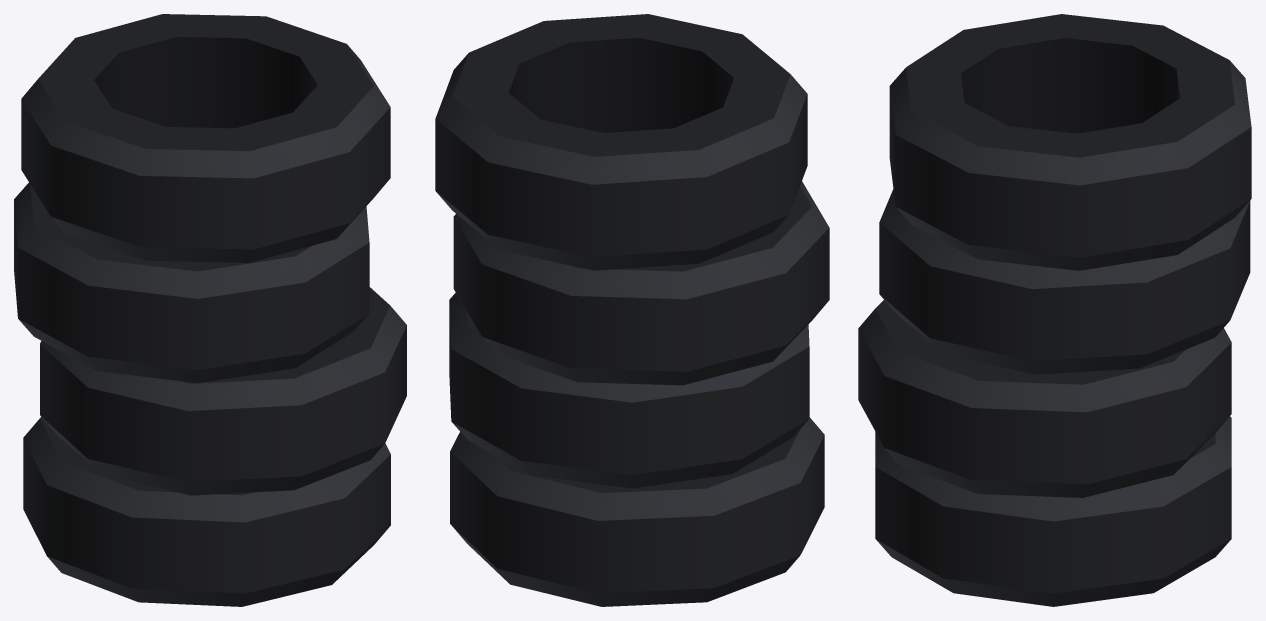
File: prop_tire_stack.glb
The picture shows the model from 3 angles, left to right: view 1: azimuth 30°, elevation 25°; view 2: azimuth 150°, elevation 25°; view 3: azimuth 270°, elevation 25°; orthographic projection.
Visible parts, largest first — view 1: prop_tire_stack__mesh; view 2: prop_tire_stack__mesh; view 3: prop_tire_stack__mesh.
Boxes of the visible parts, left/top/right/bottom form: prop_tire_stack__mesh: left=14, top=14, right=406, bottom=606; prop_tire_stack__mesh: left=435, top=14, right=829, bottom=606; prop_tire_stack__mesh: left=858, top=14, right=1251, bottom=606.
Size of the model in its own units: 0.6915 by 0.88 by 0.6925.
1 material, 1 textured.
